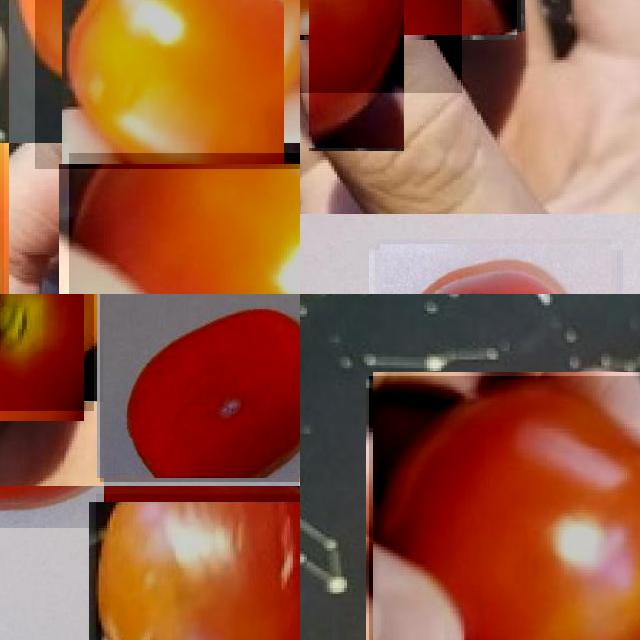Fresh Tomato: (369, 375, 640, 640), (35, 0, 300, 169), (100, 294, 300, 482), (69, 153, 300, 294), (300, 0, 462, 93), (375, 244, 617, 294)
Rotten Tomato: (96, 494, 300, 640)
